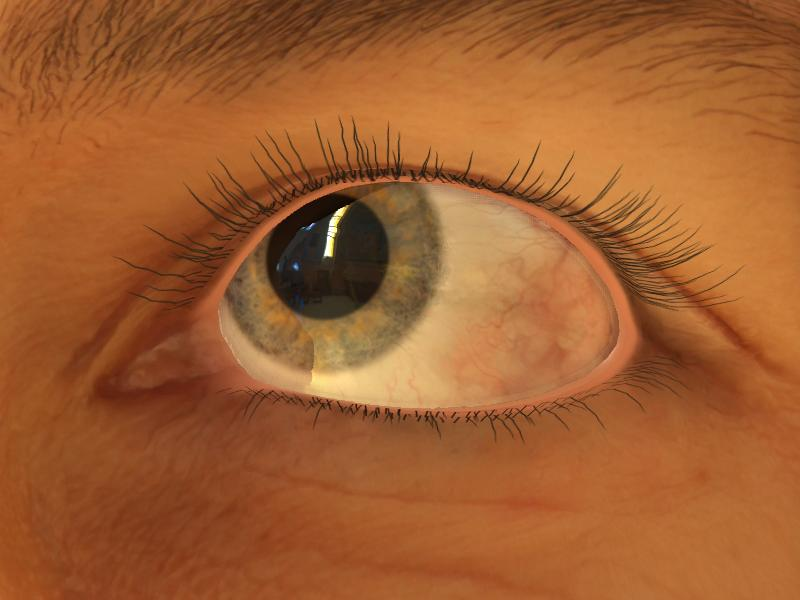eye: (223, 180, 437, 370)
